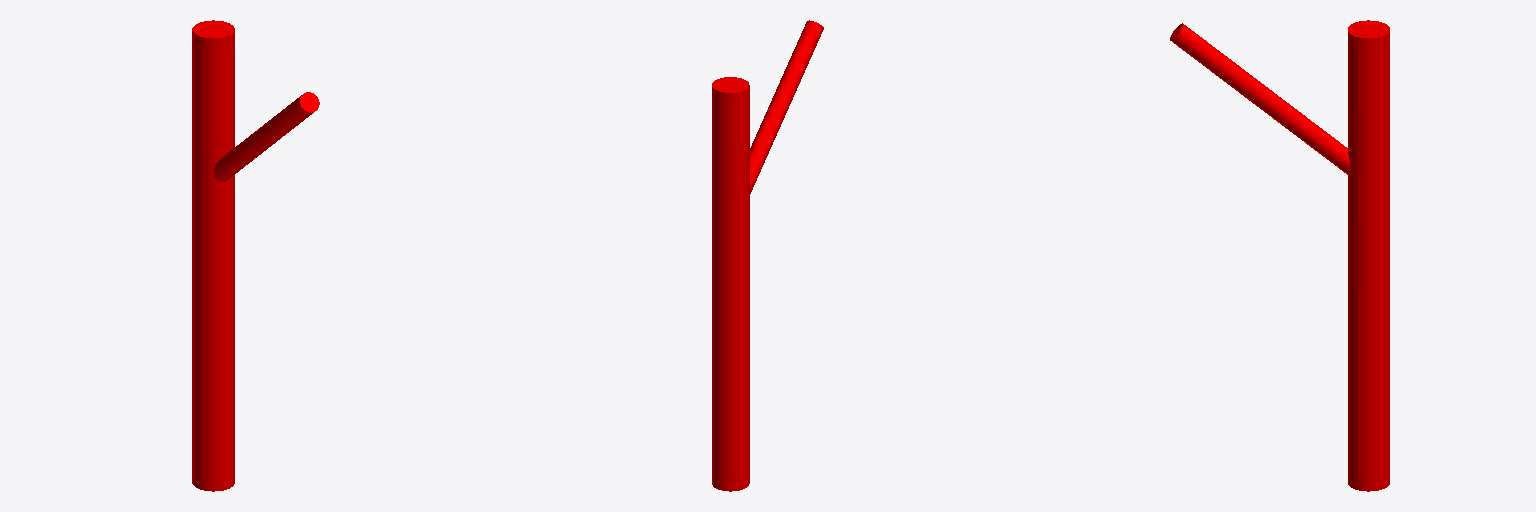
URDF robot description (tree.urdf):
<?xml version="1.0" ?>
<robot name="tree.urdf">
  <link name="baseLink">
    <inertial>
      <origin rpy="0 0 0" xyz="0 0 0"/>
       <mass value=".1"/>
       <inertia ixx="1" ixy="0" ixz="0" iyy="1" iyz="0" izz="1"/>
    </inertial>
    <contact>
      <lateral_friction value="1.0"/>
      <inertia_scaling value="3.0"/>
    </contact>
    <visual>
      <origin rpy="0 0 0" xyz="0 0 0"/>
      <geometry>
        <mesh filename="9.stl" scale="1 1 1" />
      </geometry>
      <material name="red">
        <color rgba="1 0 0 1"/>
      </material>
    </visual>
    <collision>
      <origin rpy="0 0 0" xyz="0 0 0"/>
      <geometry>
        <mesh filename="9_convex.obj" scale="1 1 1" />
      </geometry>
    </collision>
  </link>
</robot>

--- Render facts (derived) ---
3 views of the same robot in one strip: view 1: azimuth 30°, elevation 25°; view 2: azimuth 150°, elevation 25°; view 3: azimuth 270°, elevation 25° (orthographic).
Model tree.urdf with 1 links and 0 joints (none), rooted at baseLink, posed every joint at zero.
Links seen in each view (by area): view 1: baseLink; view 2: baseLink; view 3: baseLink.
Boxes of the visible links, x1,y1,x2,y2 form: baseLink: (192,20,319,491); baseLink: (712,20,823,491); baseLink: (1170,20,1389,491).
Bounding box of the posed robot: 0.0353 × 0.1824 × 0.4181 m (x, y, z).
Meshes: 1 distinct files referenced, 1 mesh visuals loaded (1 binary STL).